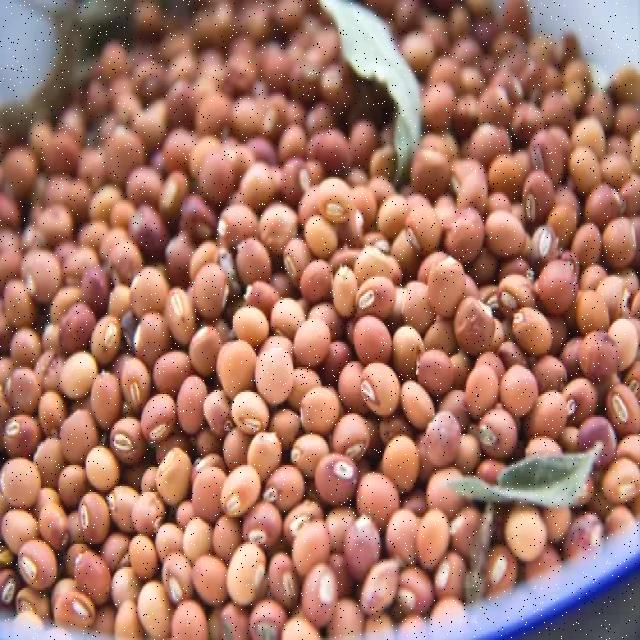NA: (103, 187, 443, 512)
